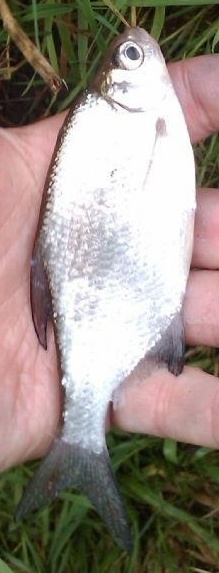Blicca bjoerkna: (20, 20, 199, 553)
